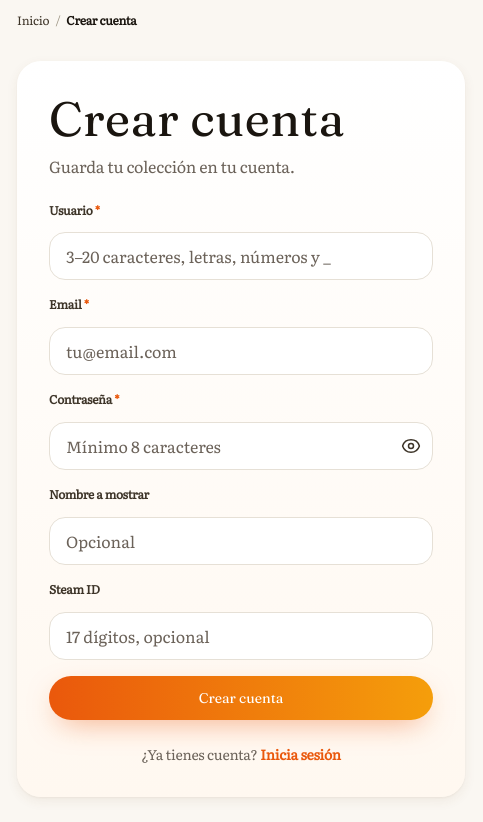
Test case: RegisterPage › marca el email inválido con aria-invalid y su mensaje
In the field labelled "Usuario *": point(241, 256) [49,232,433,280], type "nuevouser"
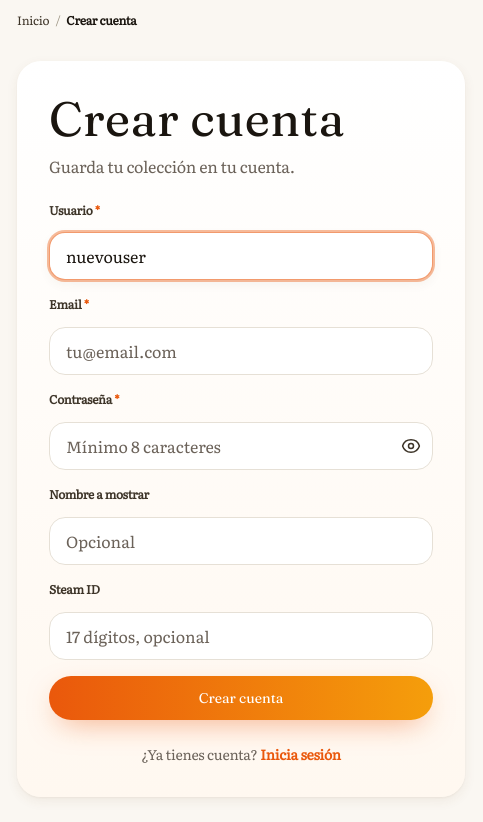
In the field labelled "Email *": point(241, 351) [49,327,433,375], type "nuevo@test.com"
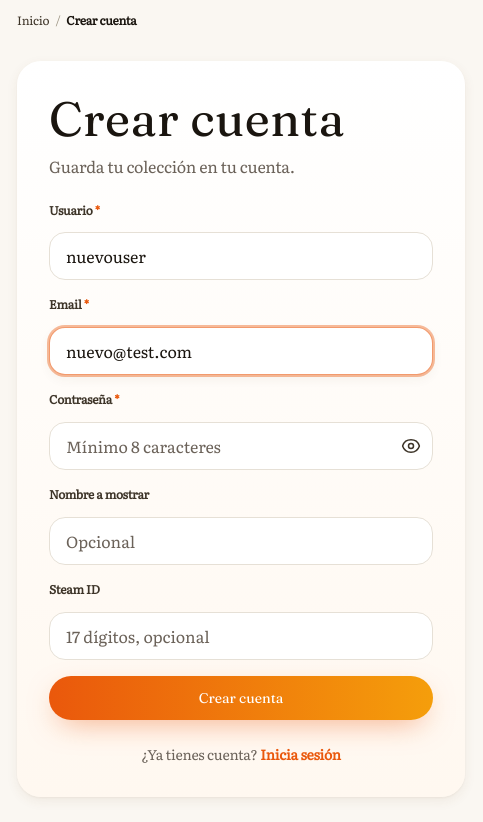
In the password field labelled "Contraseña *": point(241, 446) [49,422,433,470], type "secret123"
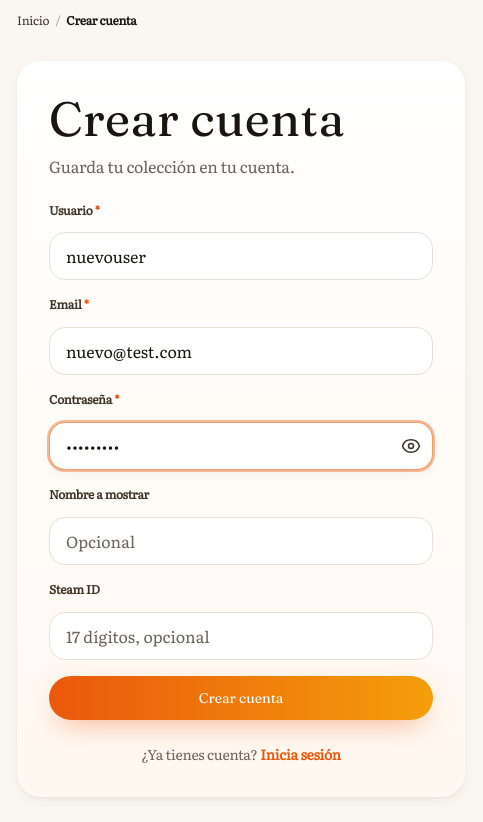
Replace the text in the field labelled "Email *" with "no-es-email": point(241, 351) [49,327,433,375]
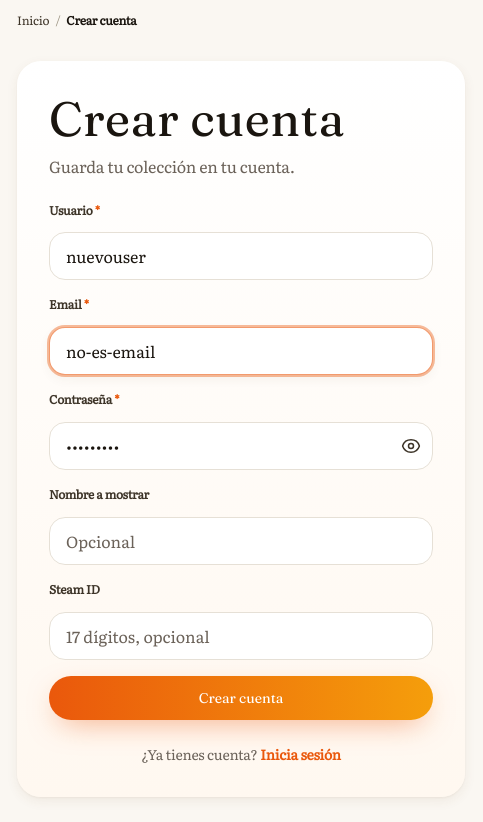
Click the button "Crear cuenta": point(241, 698) [49,676,433,720]
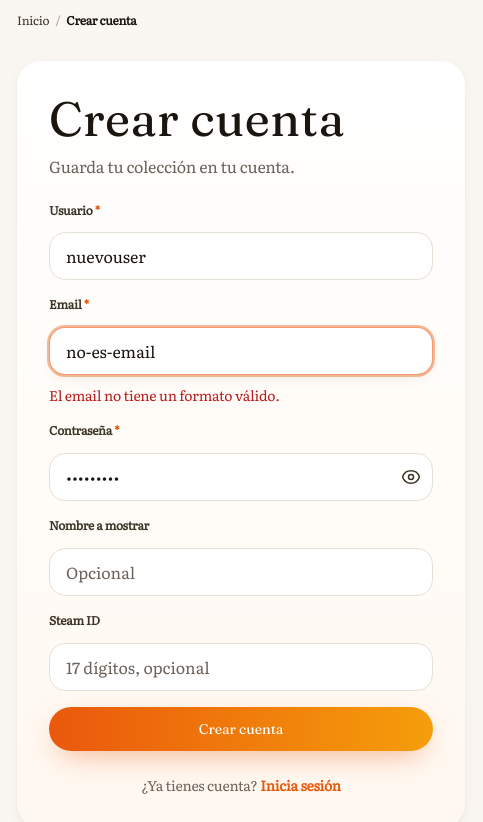
Now the text "El email no tiene un formato válido." is shown, box [49,385,280,405]
